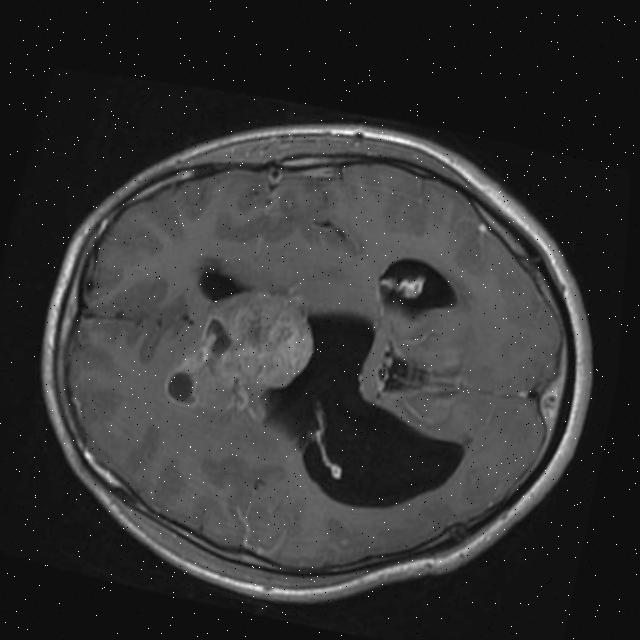Glioma: (192, 277, 324, 397), (223, 374, 265, 421)
